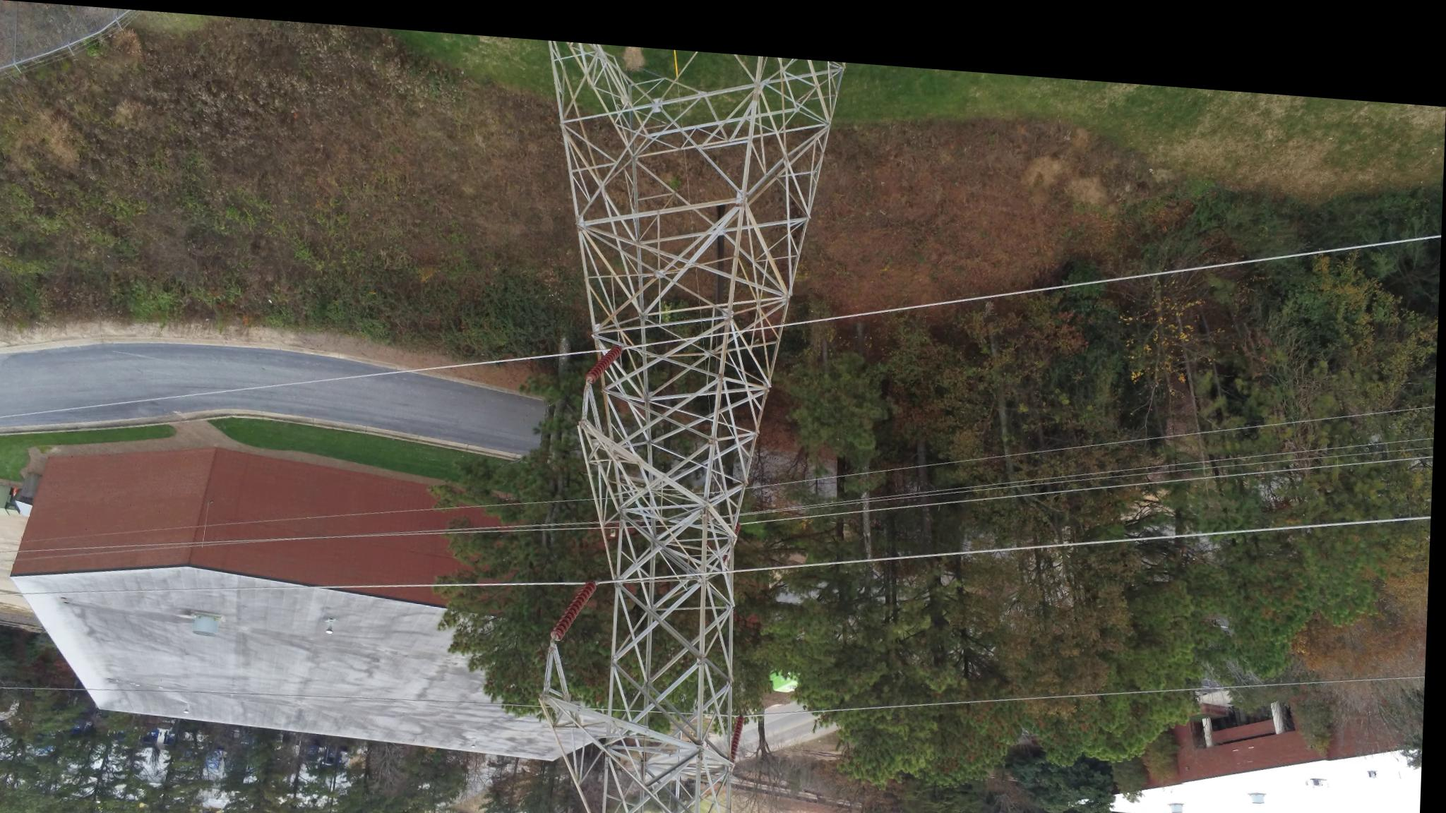tower: (40, 40, 685, 773)
